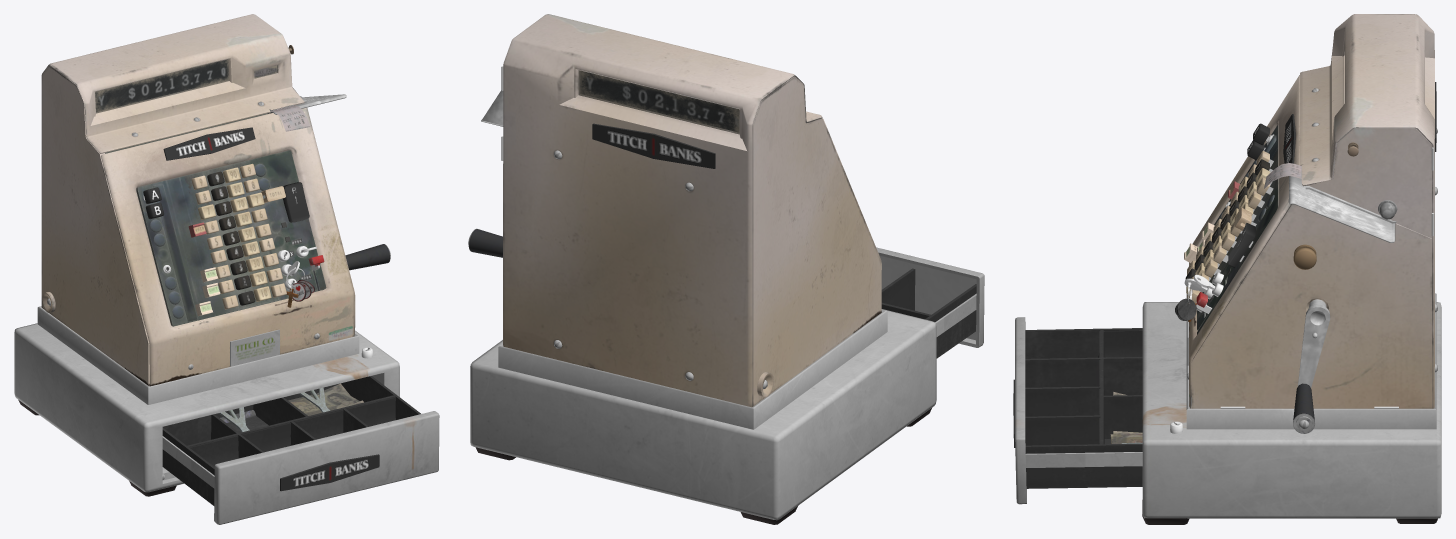
Rendered from cash_register.glb.
3 renders of one model, left to right at view 1: azimuth 30°, elevation 25°; view 2: azimuth 150°, elevation 25°; view 3: azimuth 270°, elevation 25°, orthographic. The views are drawn at different scales.
Visible parts, largest first — view 1: register, drawer; view 2: register, drawer; view 3: register, drawer.
Part boxes in pixels (bbox=[...]): register: bbox=[14, 14, 399, 496]; drawer: bbox=[162, 376, 439, 524]; register: bbox=[468, 14, 936, 524]; drawer: bbox=[876, 247, 984, 358]; register: bbox=[1142, 14, 1441, 524]; drawer: bbox=[1013, 317, 1142, 504].
Size of the model in its own units: 0.6005 by 0.6214 by 0.6242.
Materials: 2 (2 with a texture image).
